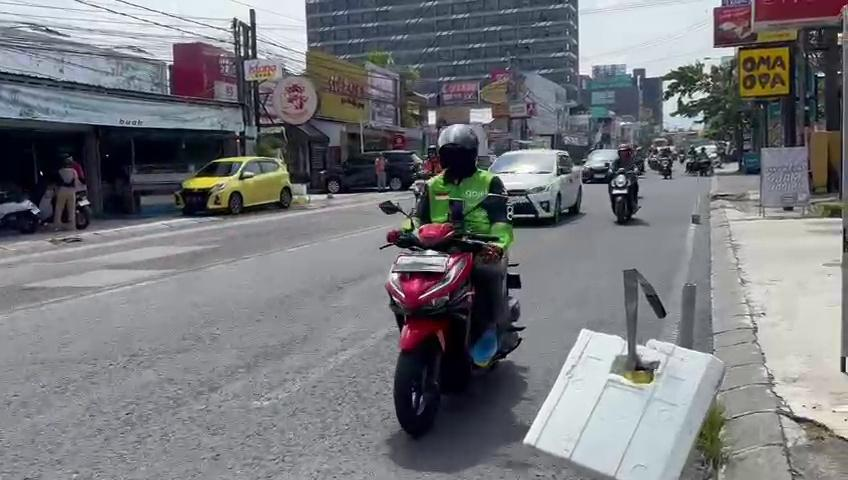helm: (435, 121, 483, 183)
riding: (377, 121, 531, 444)
